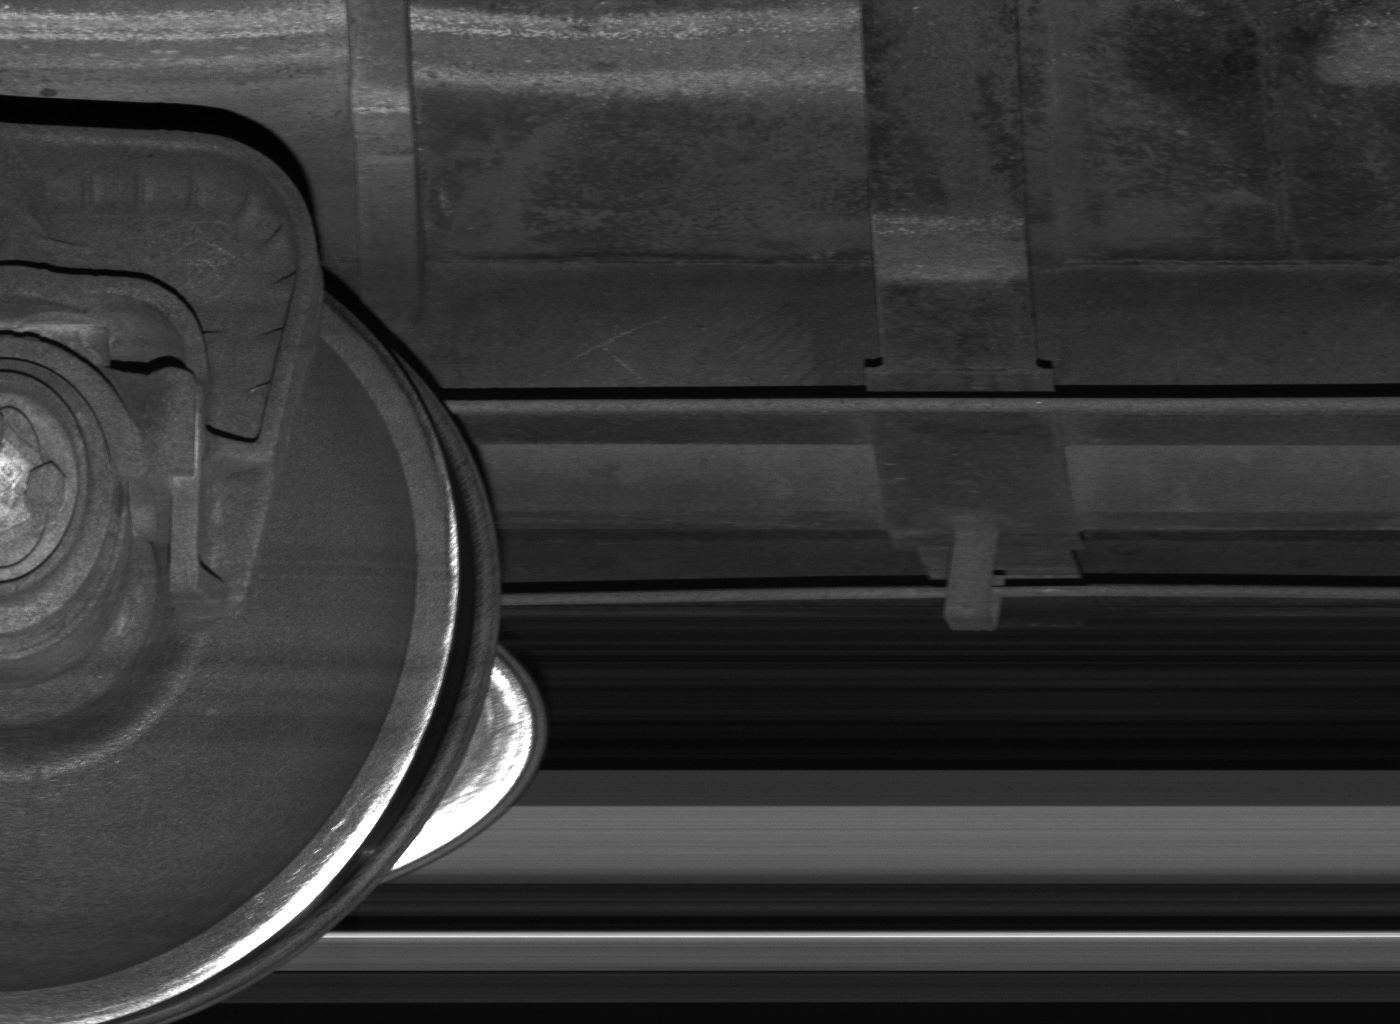normal: (942, 523, 1007, 633)
